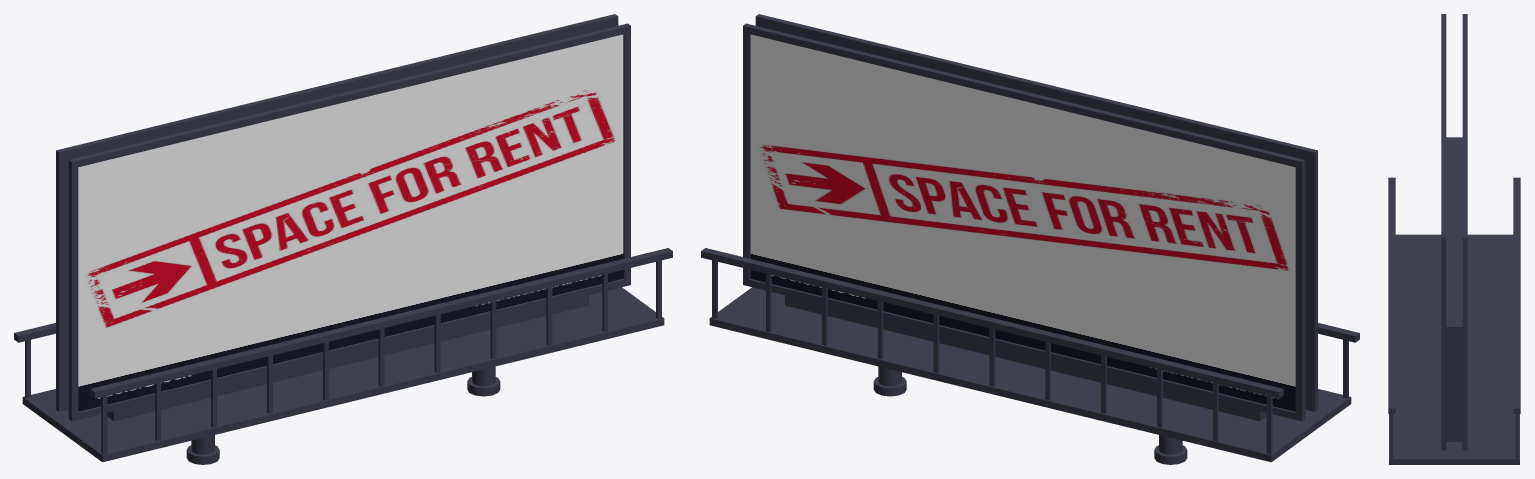
File: rent_model.glb
The picture shows the model from 3 angles, left to right: view 1: azimuth 30°, elevation 25°; view 2: azimuth 150°, elevation 25°; view 3: azimuth 270°, elevation 25°; orthographic projection. The views are drawn at different scales.
Visible parts, largest first — view 1: White boards, Main skeleton; view 2: White boards, Main skeleton; view 3: Main skeleton.
Boxes of the visible parts, left/top/right/bottom form: White boards: left=78, top=34, right=623, bottom=411; Main skeleton: left=14, top=14, right=672, bottom=464; White boards: left=750, top=34, right=1295, bottom=411; Main skeleton: left=701, top=14, right=1359, bottom=464; Main skeleton: left=1388, top=14, right=1520, bottom=464.
Size of the model in its own units: 0.0558 by 0.031 by 0.0135.
2 materials, 1 textured.
